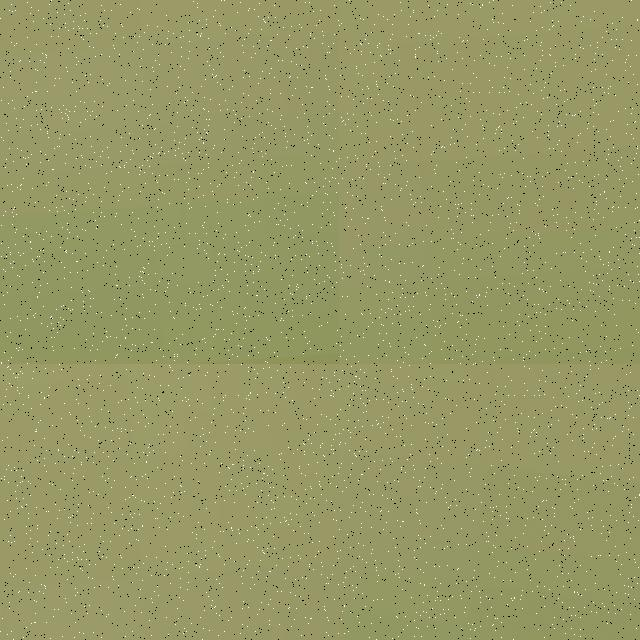drone: (339, 364, 640, 640)
